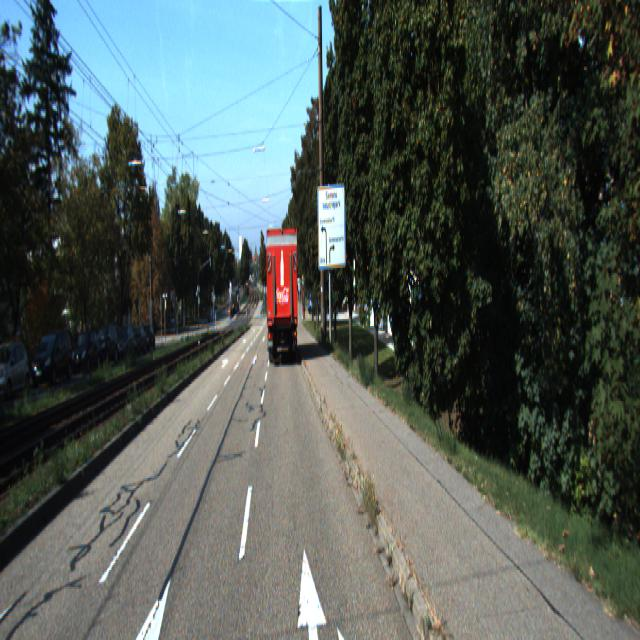Car: (264, 226, 299, 368), (32, 330, 77, 388), (0, 340, 31, 402), (72, 327, 102, 371), (92, 322, 120, 363), (114, 323, 136, 363)
